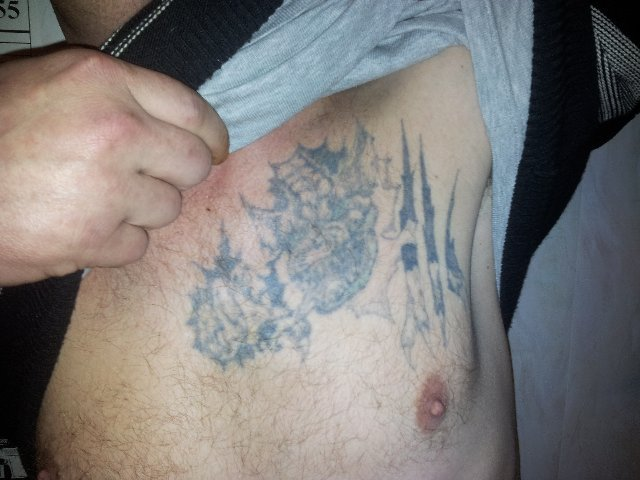tatu6_drakon: (164, 105, 401, 378)
